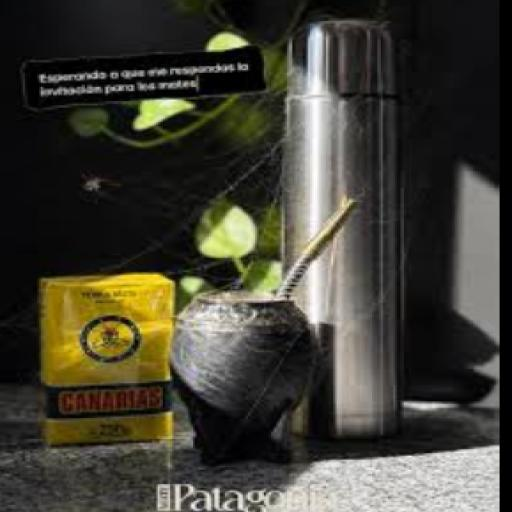mate: (170, 198, 354, 464)
termo: (282, 20, 402, 438)
